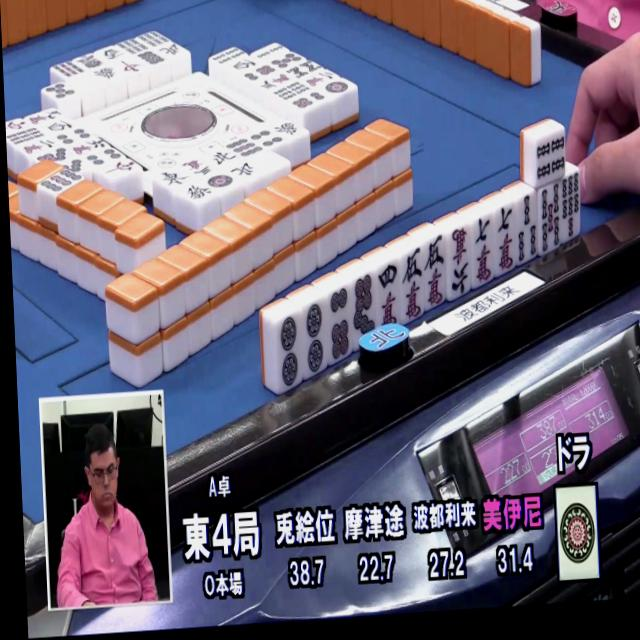1D: (555, 484, 604, 580)
2D: (276, 310, 307, 392), (299, 297, 330, 378)
3B: (515, 190, 542, 265)
4B: (529, 128, 569, 187)
4C: (372, 260, 403, 328)
5B: (535, 181, 563, 255)
5C: (399, 246, 428, 324), (422, 233, 451, 309)
6C: (445, 224, 475, 297)
6D: (324, 284, 357, 364)
7B: (559, 169, 585, 244)
7C: (469, 214, 498, 285), (493, 203, 521, 275)
7D: (350, 272, 380, 339)
9D: (38, 168, 86, 204)
